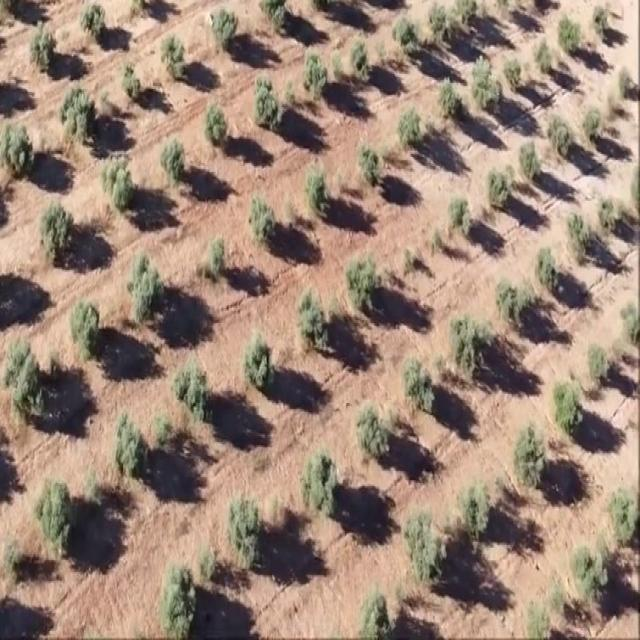trees: (402, 501, 456, 589), (287, 278, 341, 362), (394, 342, 446, 428), (566, 532, 618, 610), (4, 334, 46, 427), (37, 471, 80, 559), (454, 474, 503, 550), (342, 240, 384, 326), (448, 306, 493, 386), (159, 555, 203, 636), (510, 418, 558, 492), (298, 452, 343, 523), (230, 486, 269, 567), (240, 328, 282, 401), (352, 401, 396, 469), (114, 408, 154, 481), (547, 368, 589, 436), (175, 352, 214, 425), (130, 248, 165, 328), (41, 192, 77, 267), (394, 96, 431, 164), (62, 78, 101, 142), (495, 269, 532, 334), (0, 114, 36, 178), (244, 194, 282, 252), (446, 186, 480, 250), (431, 71, 465, 132), (103, 147, 137, 207), (30, 15, 61, 80), (299, 43, 332, 101), (201, 98, 236, 152), (531, 242, 563, 300), (592, 191, 628, 242), (302, 158, 332, 219), (251, 77, 282, 133), (470, 50, 498, 110), (516, 128, 543, 190), (579, 98, 611, 150), (348, 28, 376, 87), (554, 7, 584, 61), (209, 5, 239, 58), (497, 48, 528, 98), (159, 28, 190, 78), (358, 132, 381, 197), (74, 298, 100, 355), (548, 111, 575, 162), (162, 134, 189, 185), (488, 160, 512, 217), (566, 209, 590, 264), (392, 10, 418, 60), (590, 336, 617, 384), (80, 0, 109, 44), (118, 61, 146, 106), (207, 235, 233, 282), (426, 0, 451, 42), (532, 43, 556, 79), (591, 4, 610, 42), (618, 62, 631, 103)
